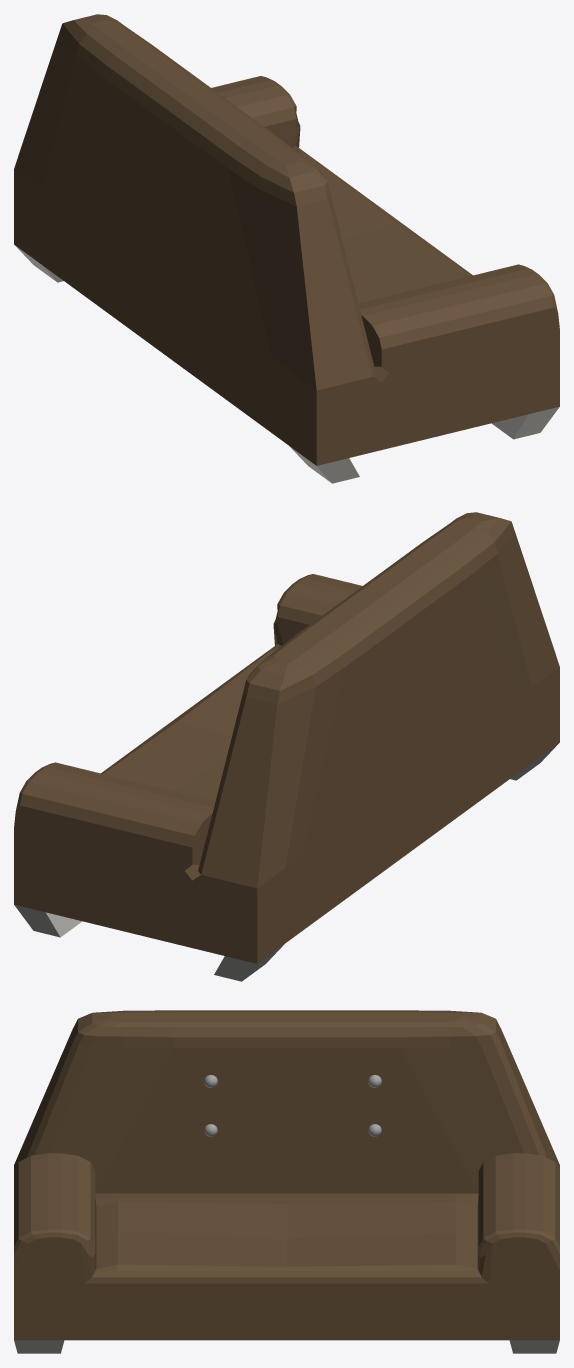
File: kanepe1.fbx
3 views of the same model, one above another, from view 1: azimuth 30°, elevation 25°; view 2: azimuth 150°, elevation 25°; view 3: azimuth 270°, elevation 25° (orthographic). The views are drawn at different scales.
Visible parts, largest first — view 1: Cube; view 2: Cube; view 3: Cube, Sphere.
Boxes of the visible parts, x1,y1,x2,y2 form: Cube: (14, 14, 559, 483); Cube: (14, 512, 559, 981); Cube: (14, 1010, 559, 1353); Sphere: (204, 1075, 381, 1136).
Bounding box in the file's own units: 208 × 228 × 448.
